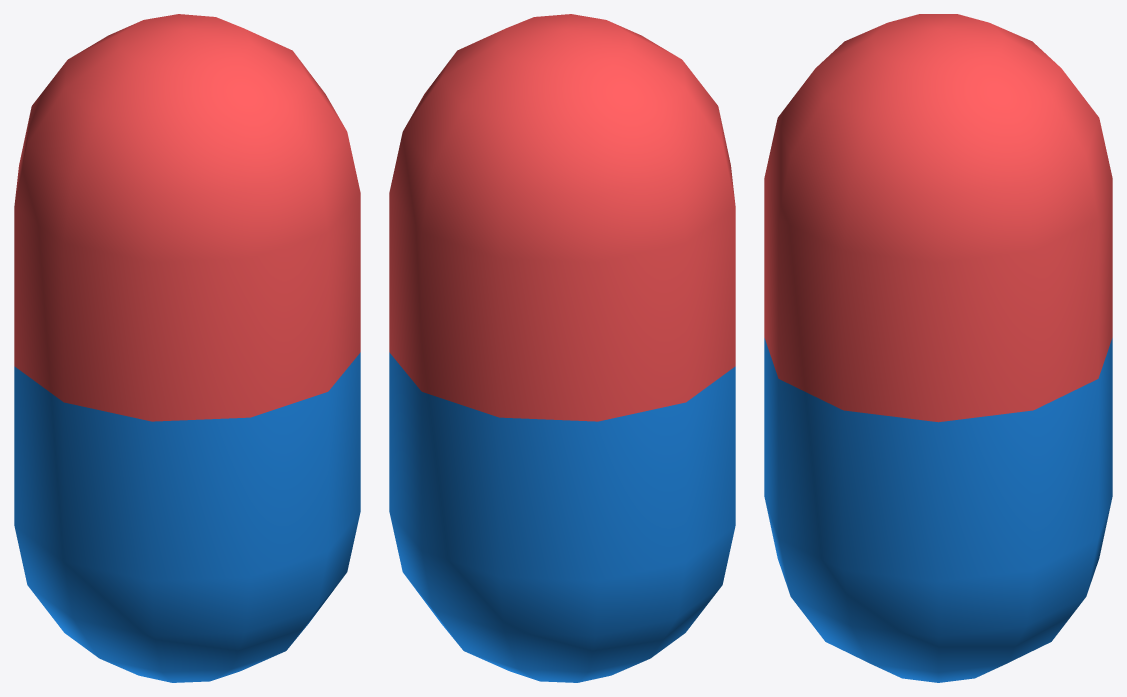
3 views of the same model, side by side, from view 1: azimuth 30°, elevation 25°; view 2: azimuth 150°, elevation 25°; view 3: azimuth 270°, elevation 25° (orthographic).
Parts seen in each view (by area): view 1: Capsule; view 2: Capsule; view 3: Capsule.
Boxes of the visible parts, x1=… form: Capsule: x1=14, y1=14, x2=360, y2=682; Capsule: x1=389, y1=14, x2=735, y2=682; Capsule: x1=764, y1=14, x2=1112, y2=682.
Bounding box in the file's own units: 59.53 × 122 × 60.14.
1 material, 1 textured.
